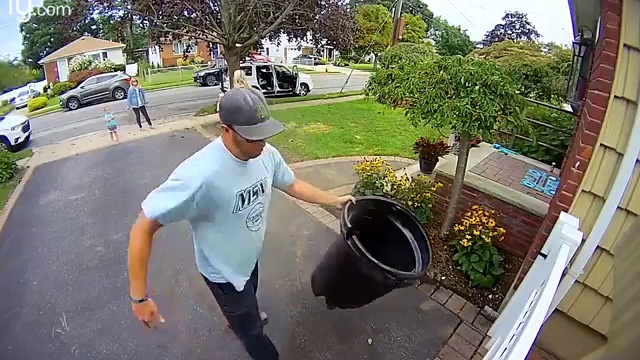face: (235, 129, 267, 159), (132, 78, 139, 87), (104, 108, 111, 114)
